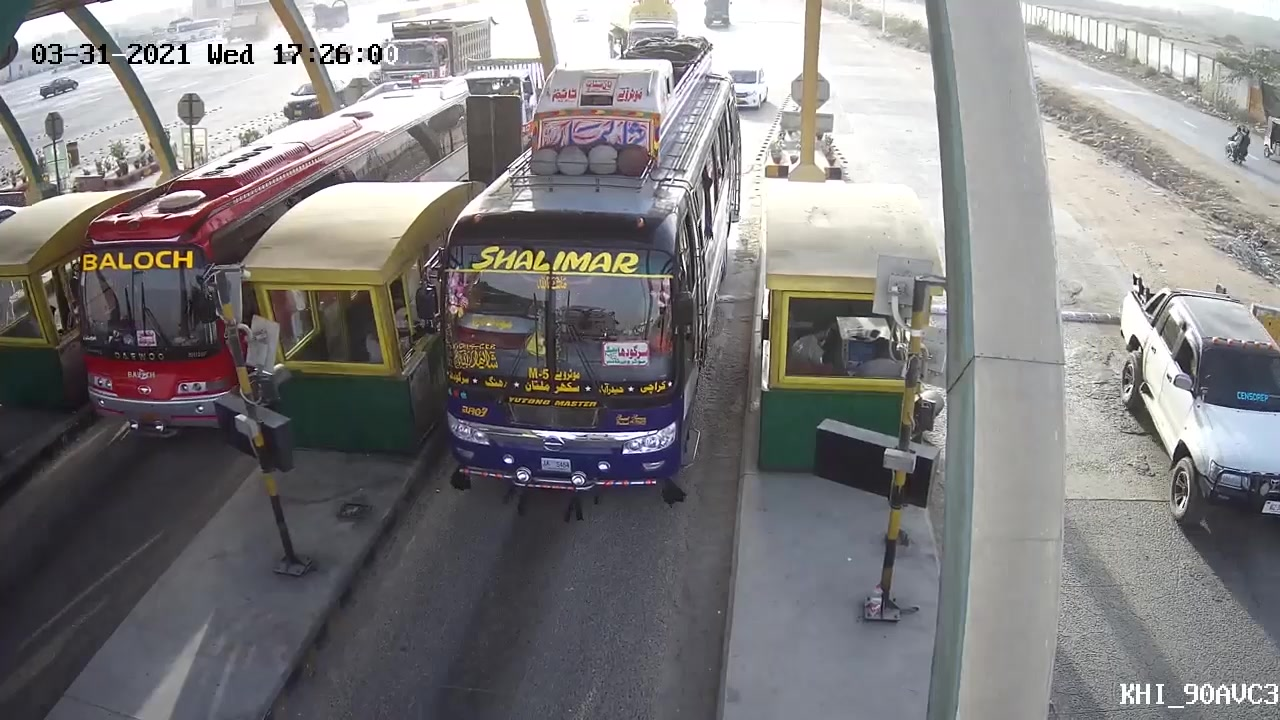F4: (431, 29, 751, 527)
